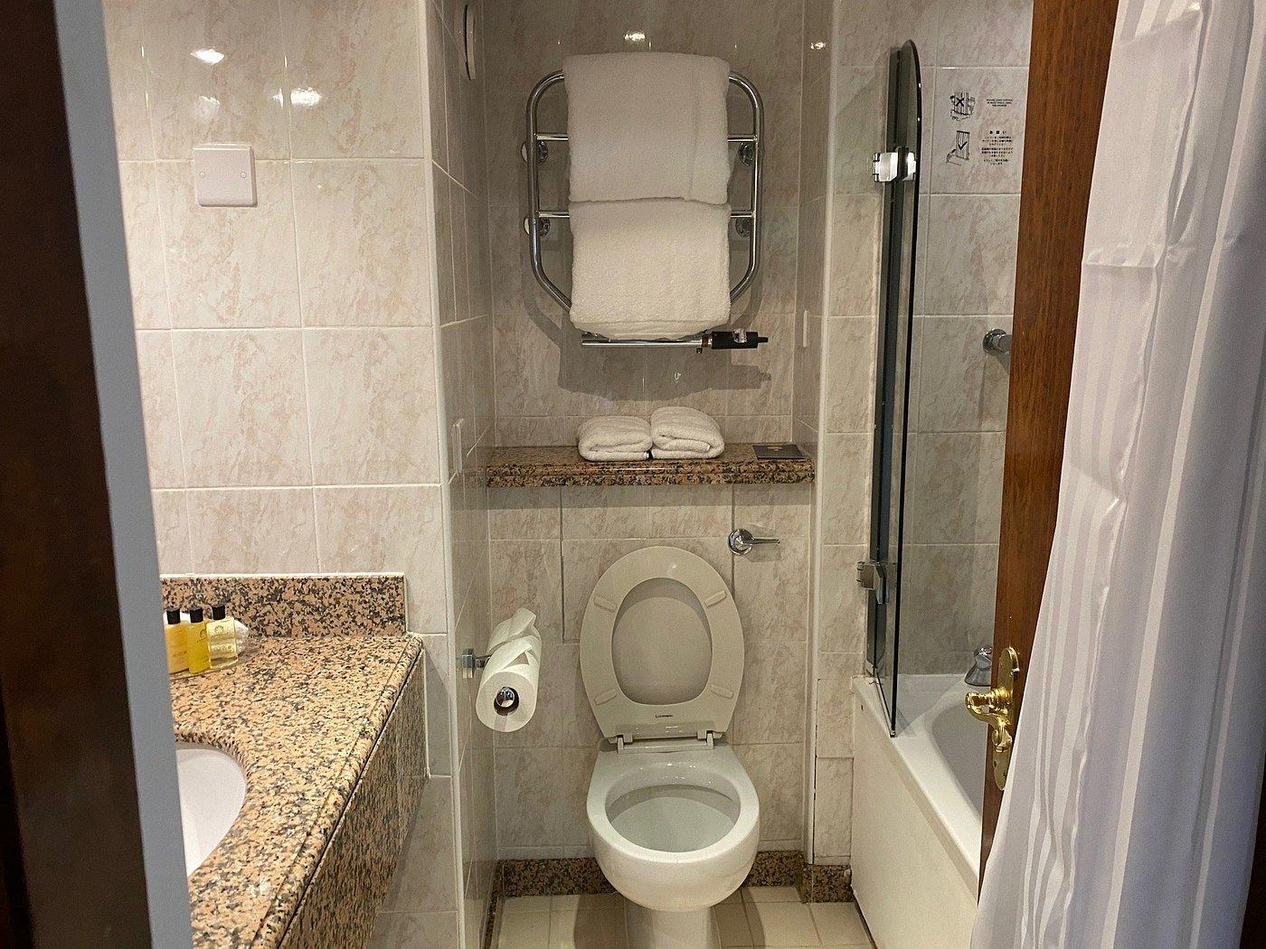clean_toilet: (3, 3, 1266, 949)
folded_towel: (562, 53, 740, 348), (577, 405, 725, 461)
